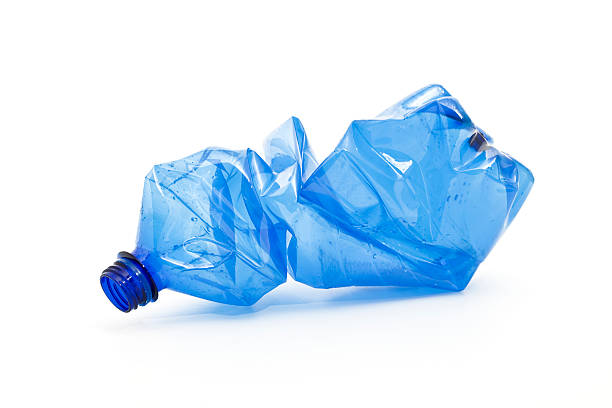plastic_bottle: (99, 83, 533, 313)
